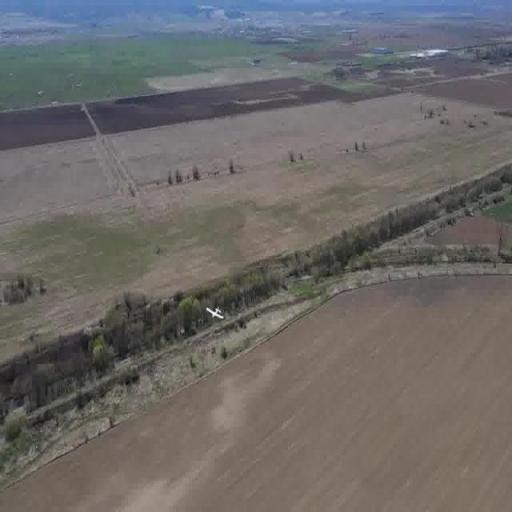uav: (204, 300, 226, 327)
